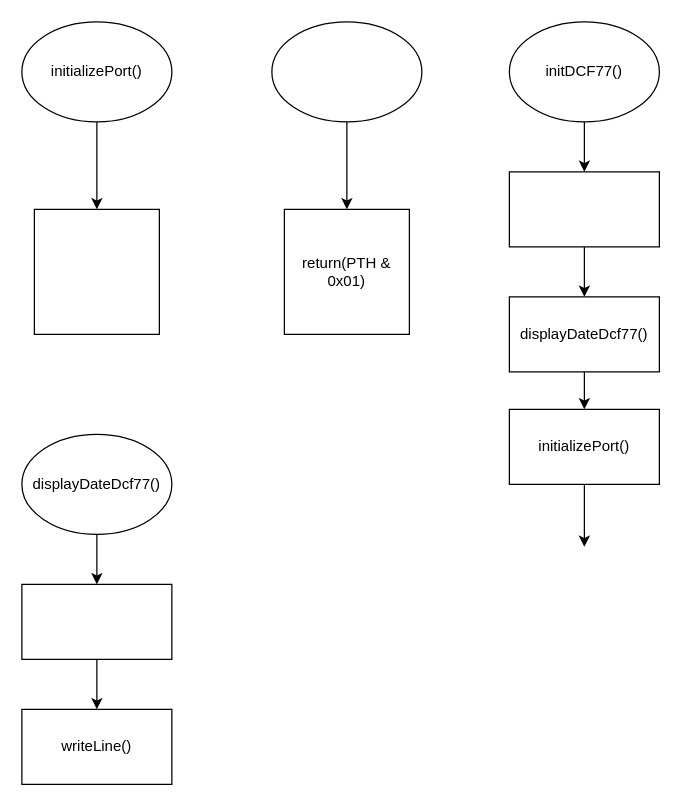
Some shapes in this 681 by 806 pixel diagram are drawn without their labels. The shapes that lost their labels are listed below. From the top down, each one's centre as x and y in pixels, then its label:
(346,71): readPort()
(583,209): setClock()
(96,271): DDRH = 0x00 PIEH = 0x00
(96,621): sprintf()
